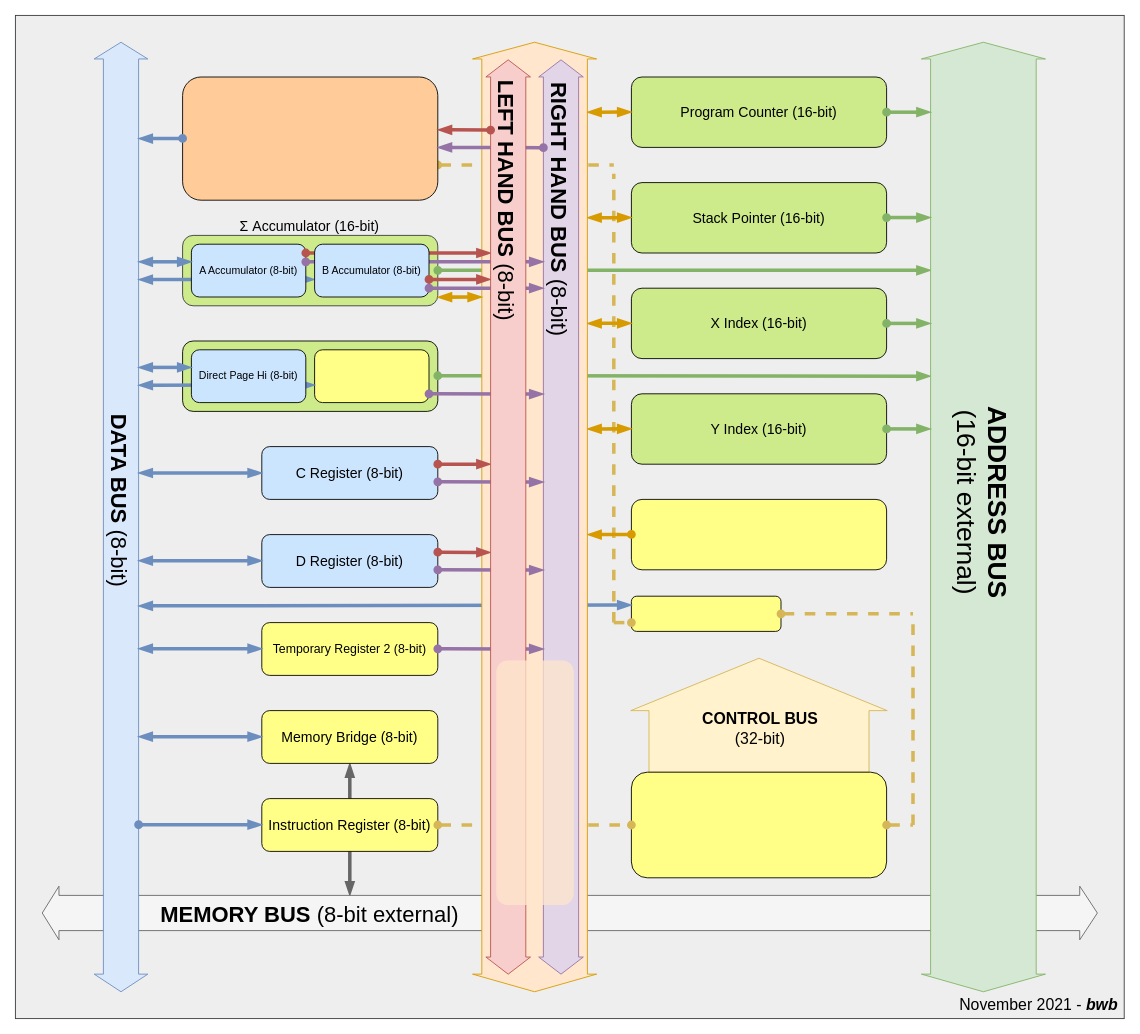
Some shapes in this 1140 by 1034 pixel diagram are drawn without their labels. The shapes that lost their labels are listed below. From the top down, each one's centre as x and y in pixels, then its label:
At point 310,138: "Arithmetic and Logic Unit".
At point 371,376: "Direct Page Lo (8-bit) / Temporary Register 1".
At point 759,534: "Constant Generator (16-bit) (RST Vector Lo / ISR Vector Lo)".
At point 706,613: "Status Register (5-bit) C Z V N I".
At point 534,782: "TRANSFER BUS (16-bit / 2x 8-bit)".
At point 759,824: "Control Unit".
